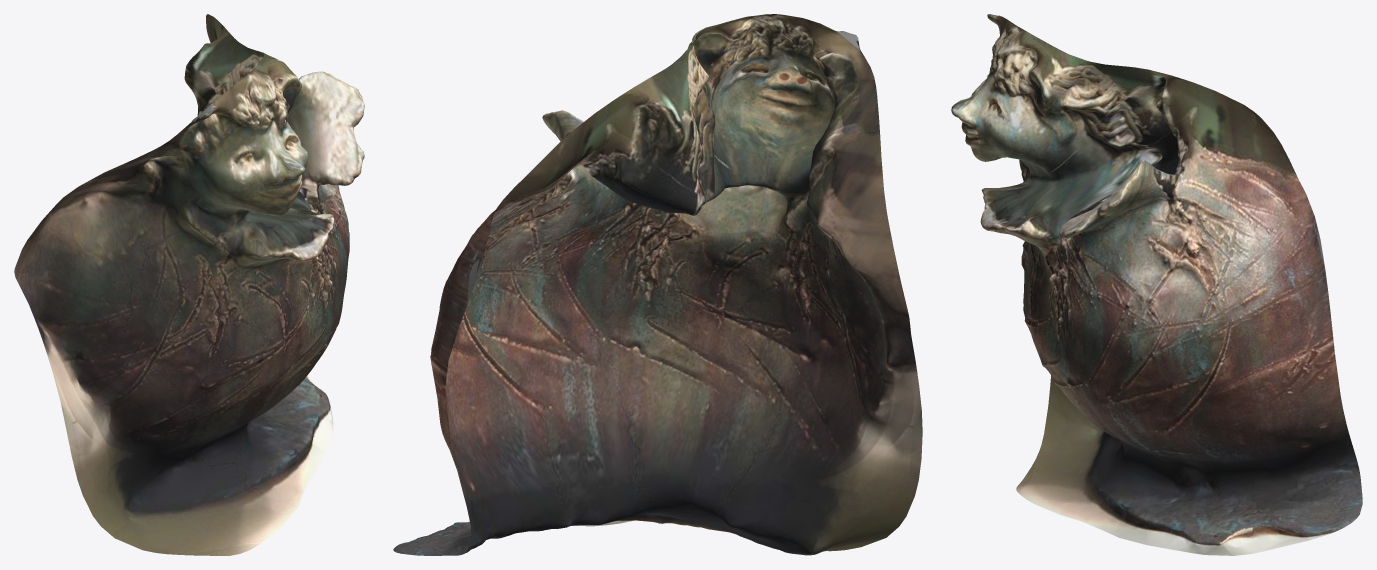
The model's file is knolletje.obj.
3 renders of one model, left to right at view 1: azimuth 30°, elevation 25°; view 2: azimuth 150°, elevation 25°; view 3: azimuth 270°, elevation 25°, orthographic. The views are drawn at different scales.
Visible parts, largest first — view 1: knolletje; view 2: knolletje; view 3: knolletje.
Part boxes in pixels (x1,y1,x2,y2): knolletje: (14, 14, 364, 555); knolletje: (393, 14, 922, 555); knolletje: (951, 14, 1362, 555).
Bounding box in the file's own units: 14.09 × 17.25 × 13.79.
Materials: 2 (1 with a texture image).
